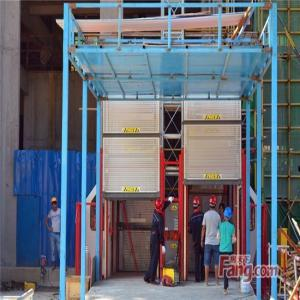blue: (225, 208, 233, 222)
none: (219, 203, 225, 215)
red: (155, 198, 165, 214), (192, 196, 202, 212), (209, 194, 218, 210)
yellow: (51, 197, 58, 209)
